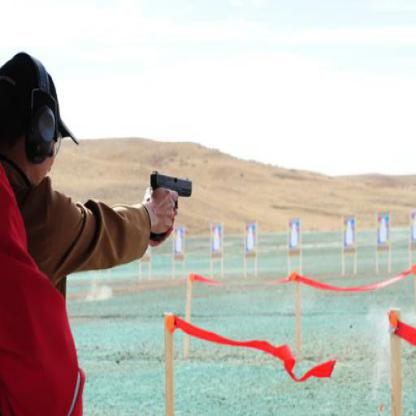gun: (150, 172, 193, 243)
